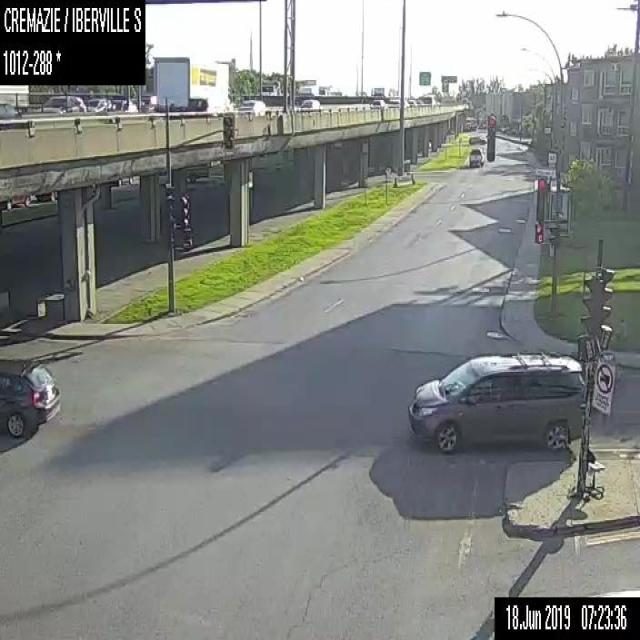vehicle: (407, 350, 586, 454), (0, 357, 61, 439), (153, 56, 235, 111), (38, 92, 86, 112), (0, 83, 29, 113), (261, 72, 288, 95), (84, 96, 114, 111), (237, 97, 266, 112), (469, 146, 484, 167), (110, 93, 127, 111), (298, 82, 318, 95), (299, 98, 320, 110), (369, 97, 386, 108), (370, 85, 384, 97), (388, 94, 400, 106), (424, 92, 435, 105), (468, 136, 485, 144), (407, 98, 418, 107), (415, 97, 423, 106)
